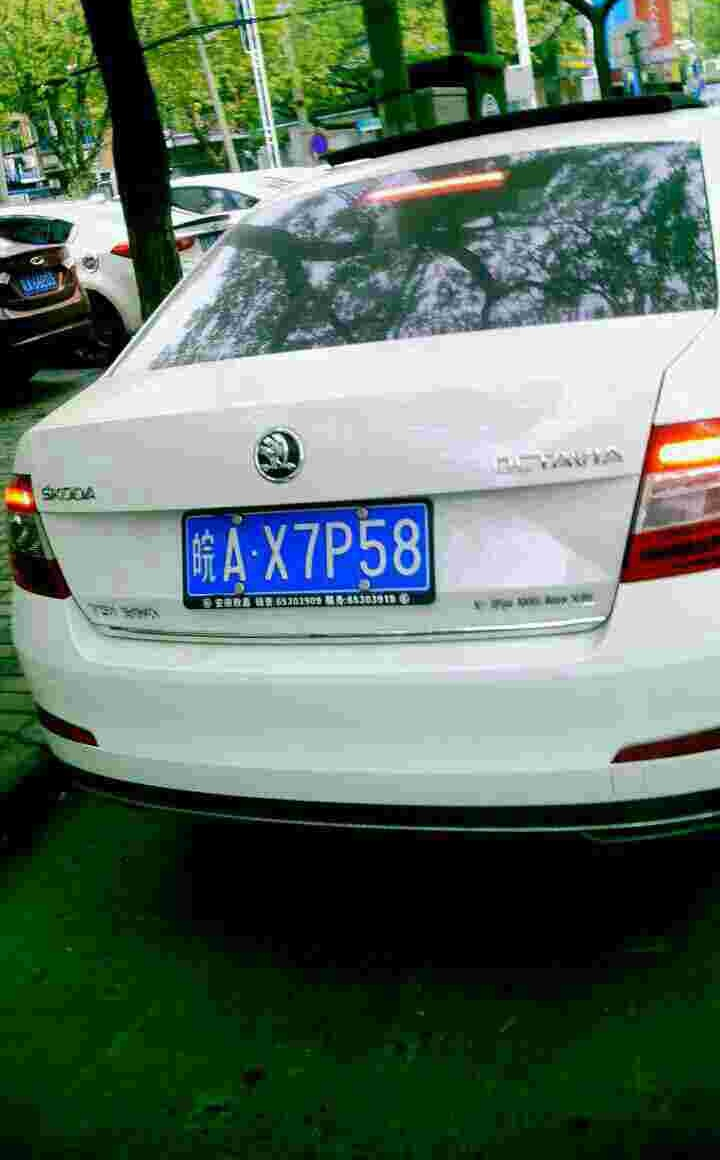license_plate: (184, 502, 436, 607)
